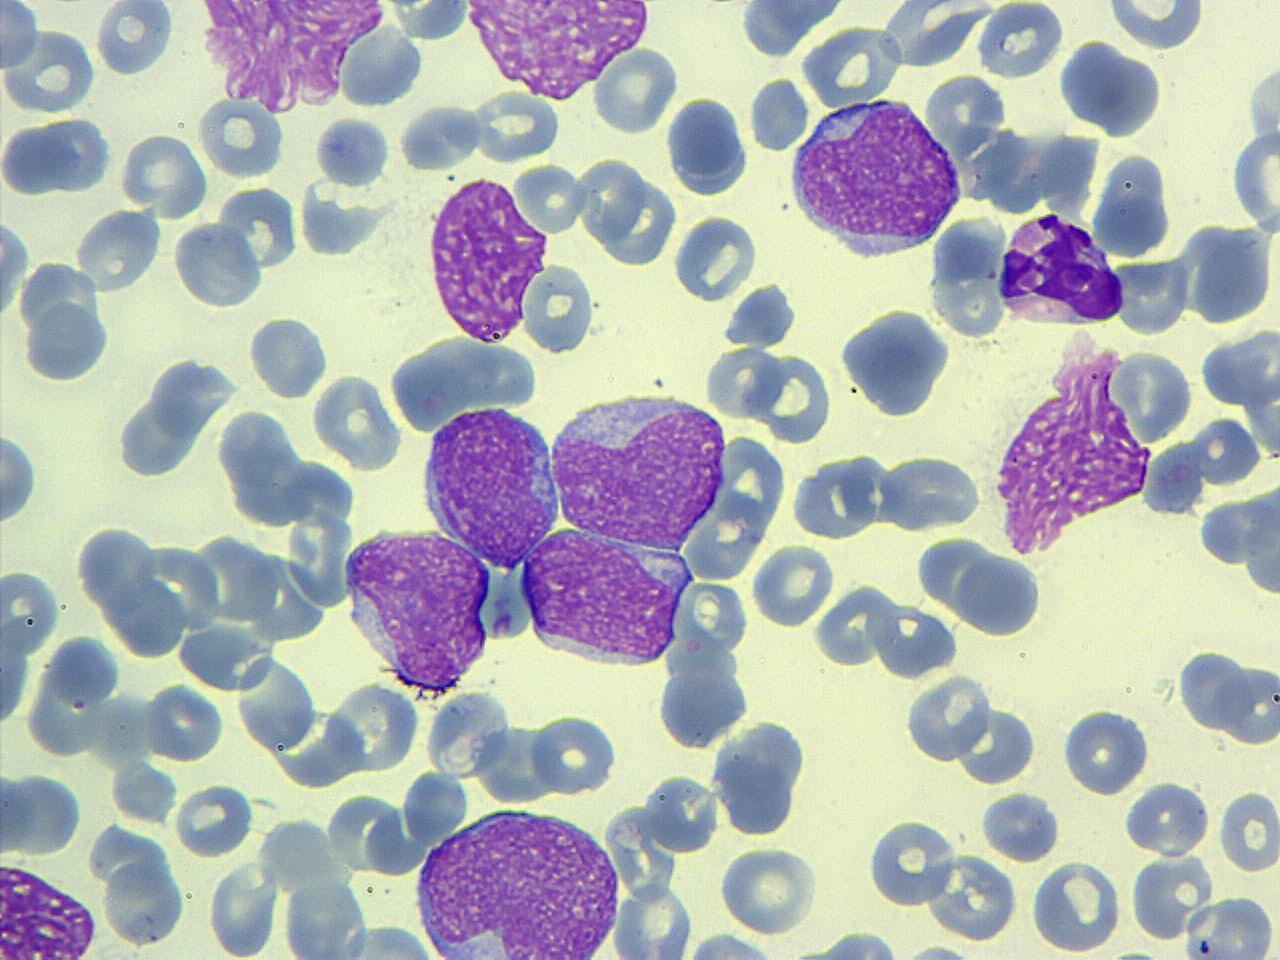Platelets: (314, 114, 390, 190), (720, 283, 800, 349), (0, 424, 42, 530), (901, 940, 970, 960)
RBC: (22, 632, 124, 762), (926, 212, 1012, 338), (718, 840, 820, 934), (1089, 148, 1173, 261), (799, 23, 905, 112), (1028, 858, 1124, 956), (0, 21, 97, 117), (664, 92, 752, 197), (168, 220, 264, 312), (878, 452, 985, 533), (1059, 704, 1151, 798), (233, 652, 316, 754), (864, 814, 954, 908), (902, 672, 992, 766), (950, 550, 1046, 638), (592, 42, 680, 138), (1230, 77, 1280, 245), (924, 852, 1018, 942), (670, 212, 760, 306), (422, 686, 510, 782), (527, 710, 622, 798), (99, 856, 187, 949), (117, 130, 210, 219), (75, 203, 163, 294), (878, 1, 996, 70), (246, 312, 334, 401), (754, 350, 834, 449), (195, 94, 286, 179), (750, 538, 834, 630), (974, 2, 1067, 82), (1175, 640, 1251, 738), (954, 700, 1039, 786), (284, 874, 371, 958), (1123, 779, 1211, 860), (207, 858, 278, 958), (144, 678, 225, 764), (522, 260, 594, 356), (610, 878, 693, 960), (472, 88, 560, 164), (1179, 892, 1277, 959), (703, 342, 785, 422), (978, 790, 1062, 866), (94, 0, 175, 78), (173, 781, 255, 858), (313, 113, 393, 188), (400, 99, 482, 171), (513, 159, 587, 237), (1103, 0, 1209, 53), (0, 567, 61, 659), (1218, 787, 1278, 877), (746, 72, 810, 154), (1222, 659, 1280, 748), (108, 758, 178, 824), (0, 422, 41, 531), (1, 204, 30, 332), (1, 766, 34, 860), (0, 0, 41, 73)
WBC: (986, 322, 1180, 568), (411, 804, 620, 960), (784, 92, 964, 263), (542, 384, 728, 550), (340, 518, 499, 694), (518, 521, 696, 672), (416, 402, 561, 568), (191, 0, 396, 116), (425, 172, 552, 346), (460, 0, 652, 104), (112, 352, 245, 486), (994, 209, 1130, 328), (838, 303, 954, 419), (22, 628, 123, 762), (708, 715, 816, 834), (16, 263, 116, 388), (1055, 33, 1165, 139), (1231, 41, 1280, 247), (0, 860, 102, 959), (800, 18, 906, 111), (1089, 144, 1172, 260), (0, 116, 116, 198), (663, 92, 753, 197), (170, 216, 265, 312), (1061, 701, 1155, 797), (903, 669, 994, 767), (952, 547, 1044, 641), (671, 209, 759, 306), (247, 310, 330, 404), (956, 702, 1038, 788), (734, 1, 850, 61), (978, 787, 1062, 866), (1176, 646, 1250, 734), (1100, 1, 1208, 53), (748, 72, 811, 155), (724, 282, 800, 350), (0, 422, 40, 532)
